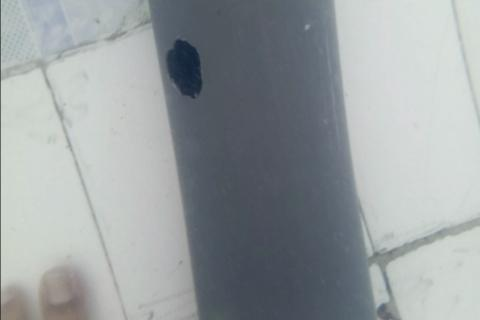kebocoran: (164, 36, 205, 99)
